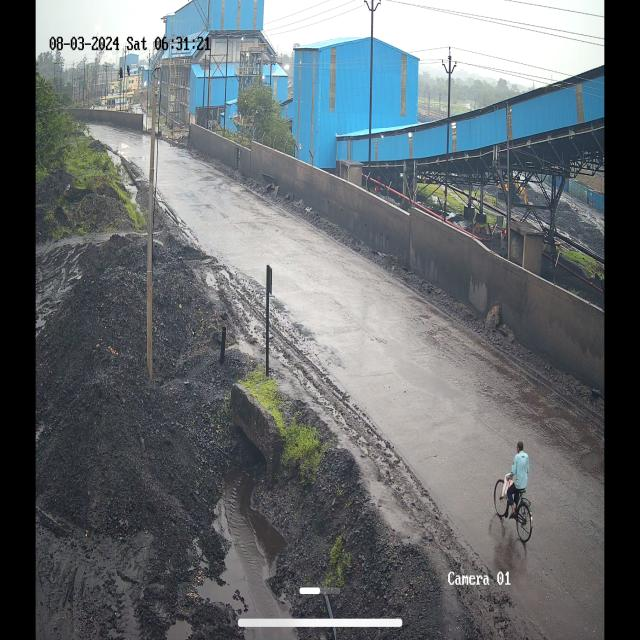person: (505, 435, 528, 505)
